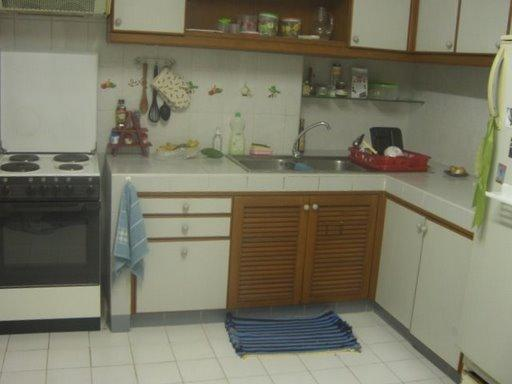Electrodomestico: (1, 142, 107, 330), (462, 36, 511, 370)
Lavaplatos: (225, 119, 370, 181)
